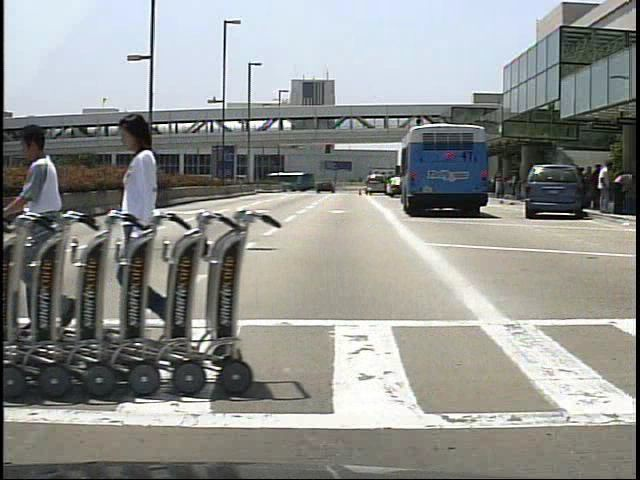person: (107, 110, 198, 351), (9, 121, 85, 340), (598, 160, 619, 215), (589, 164, 604, 213)
